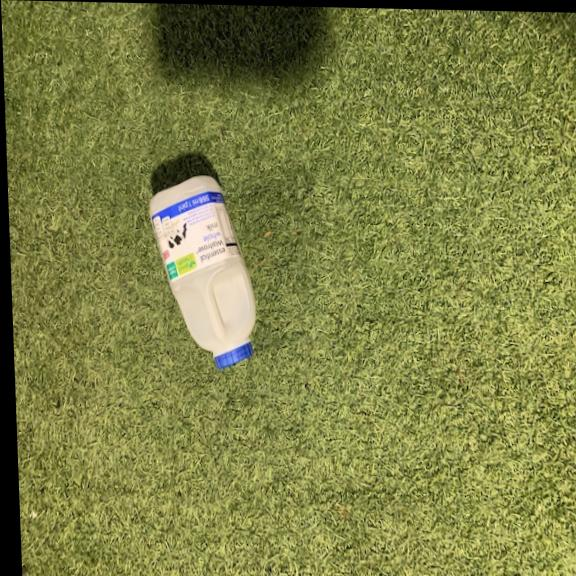Plastik: (142, 172, 262, 371)
